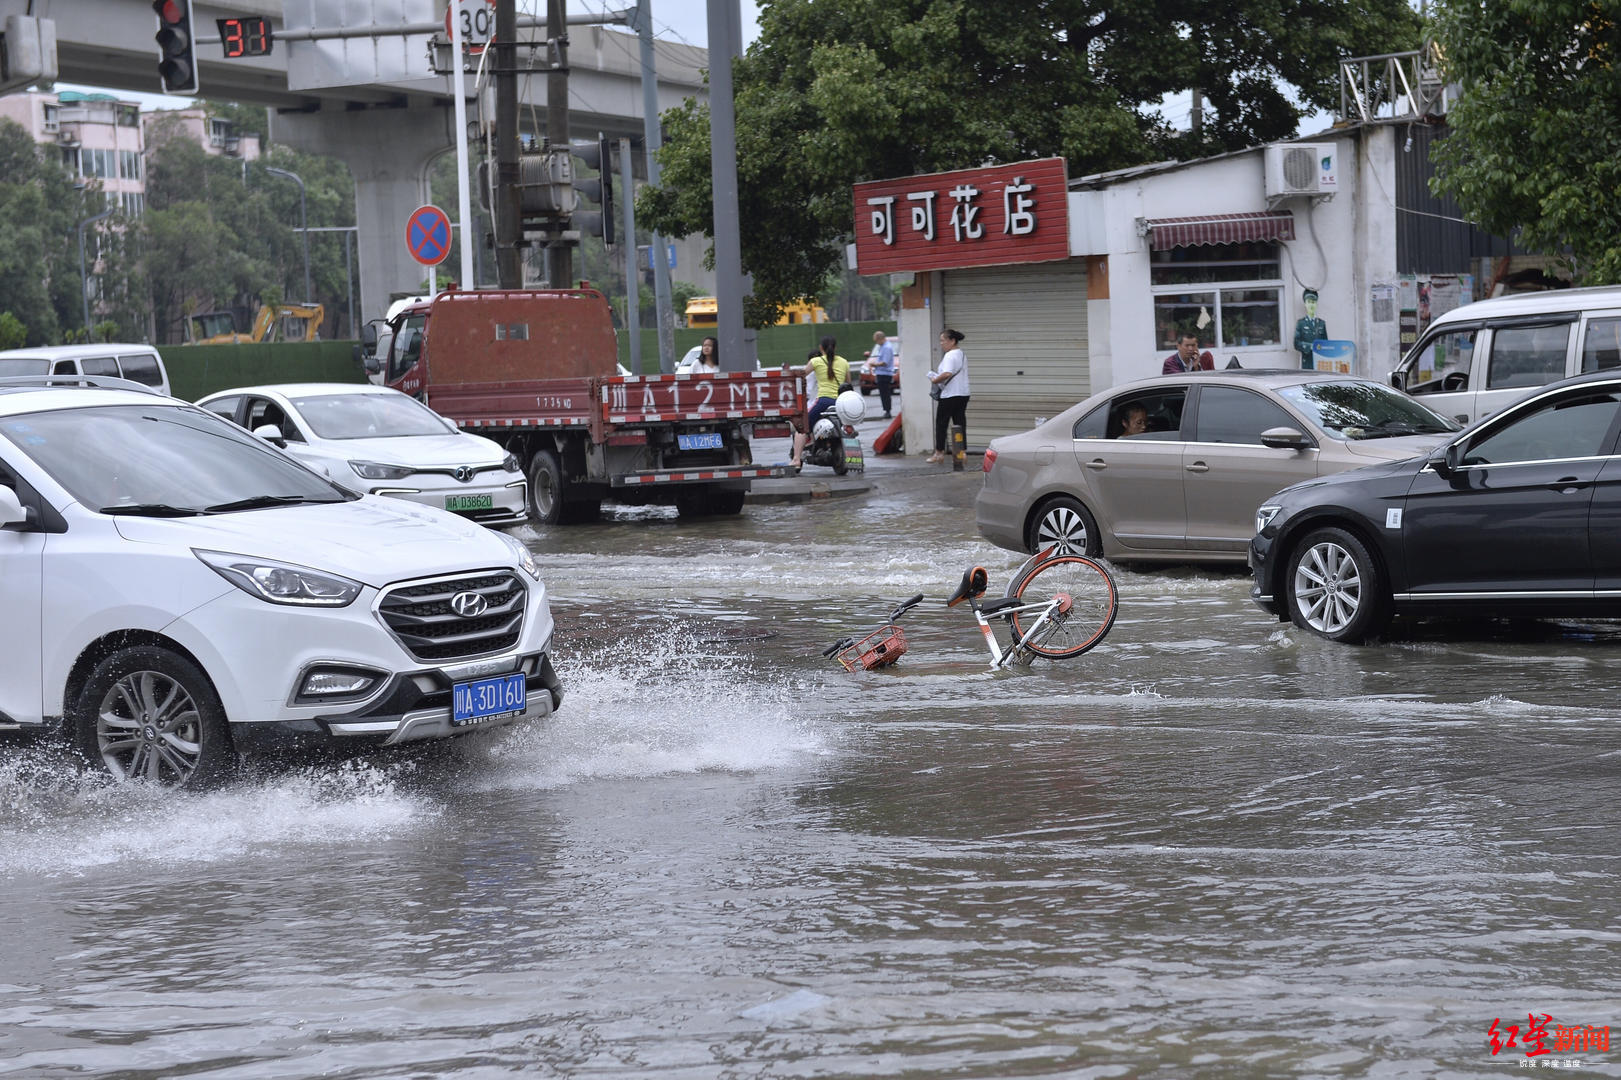puddle: (5, 595, 1621, 1080)
